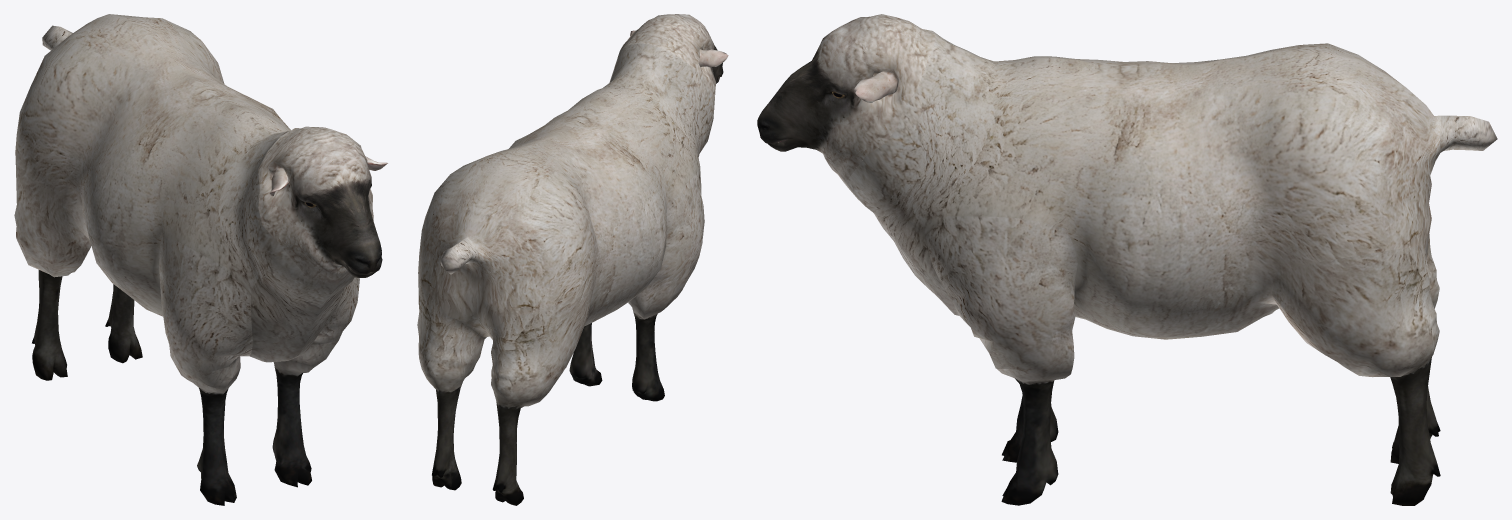
File: sheep.glb
3 renders of one model, left to right at view 1: azimuth 30°, elevation 25°; view 2: azimuth 150°, elevation 25°; view 3: azimuth 270°, elevation 25°, orthographic. The views are drawn at different scales.
Visible parts, largest first — view 1: sm_3_0_0_0, sm_1_0_0_2; view 2: sm_3_0_0_0, sm_1_0_0_2; view 3: sm_3_0_0_0, sm_1_0_0_2.
Boxes of the visible parts, left/top/right/bottom form: sm_3_0_0_0: left=14, top=14, right=359, bottom=505; sm_1_0_0_2: left=258, top=126, right=387, bottom=285; sm_3_0_0_0: left=417, top=43, right=714, bottom=505; sm_1_0_0_2: left=620, top=14, right=728, bottom=100; sm_3_0_0_0: left=843, top=31, right=1497, bottom=505; sm_1_0_0_2: left=757, top=14, right=935, bottom=181.
Bounding box in the file's own units: 0.4619 × 0.8596 × 1.26.
Materials: 3 (3 with a texture image).
